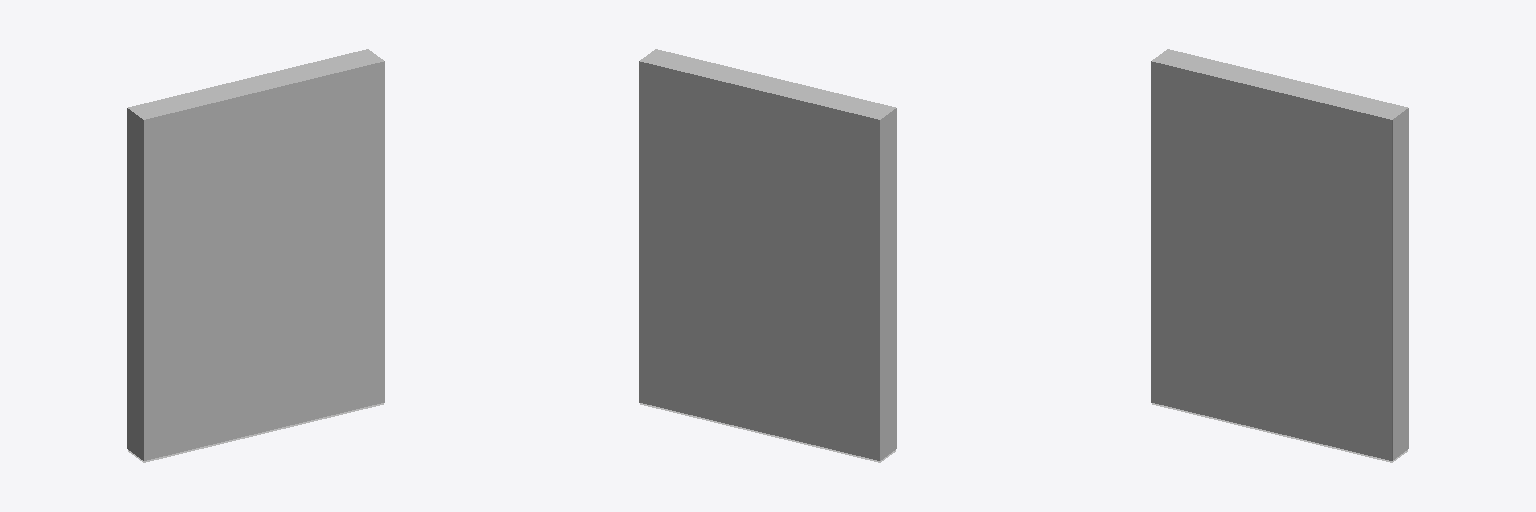
The model's file is boxlynx_noreflx.obj.
The picture shows the model from 3 angles: view 1: azimuth 30°, elevation 25°; view 2: azimuth 150°, elevation 25°; view 3: azimuth 330°, elevation 25°; orthographic projection.
Visible parts, largest first — view 1: boxnes_noreflx_boxgb_box.005; view 2: boxnes_noreflx_boxgb_box.005; view 3: boxnes_noreflx_boxgb_box.005.
Boxes of the visible parts, x1,y1,x2,y2 form: boxnes_noreflx_boxgb_box.005: [127, 49, 384, 462]; boxnes_noreflx_boxgb_box.005: [639, 49, 896, 462]; boxnes_noreflx_boxgb_box.005: [1151, 49, 1408, 462].
Bounding box in the file's own units: 1.56 × 2.12 × 0.1872.